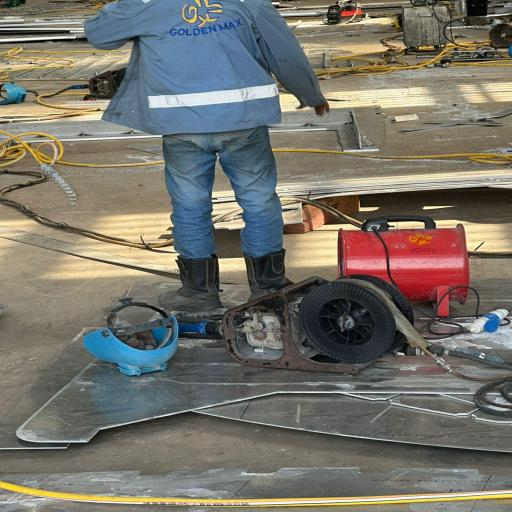safety_shoe: (143, 253, 229, 312), (238, 253, 303, 297)
